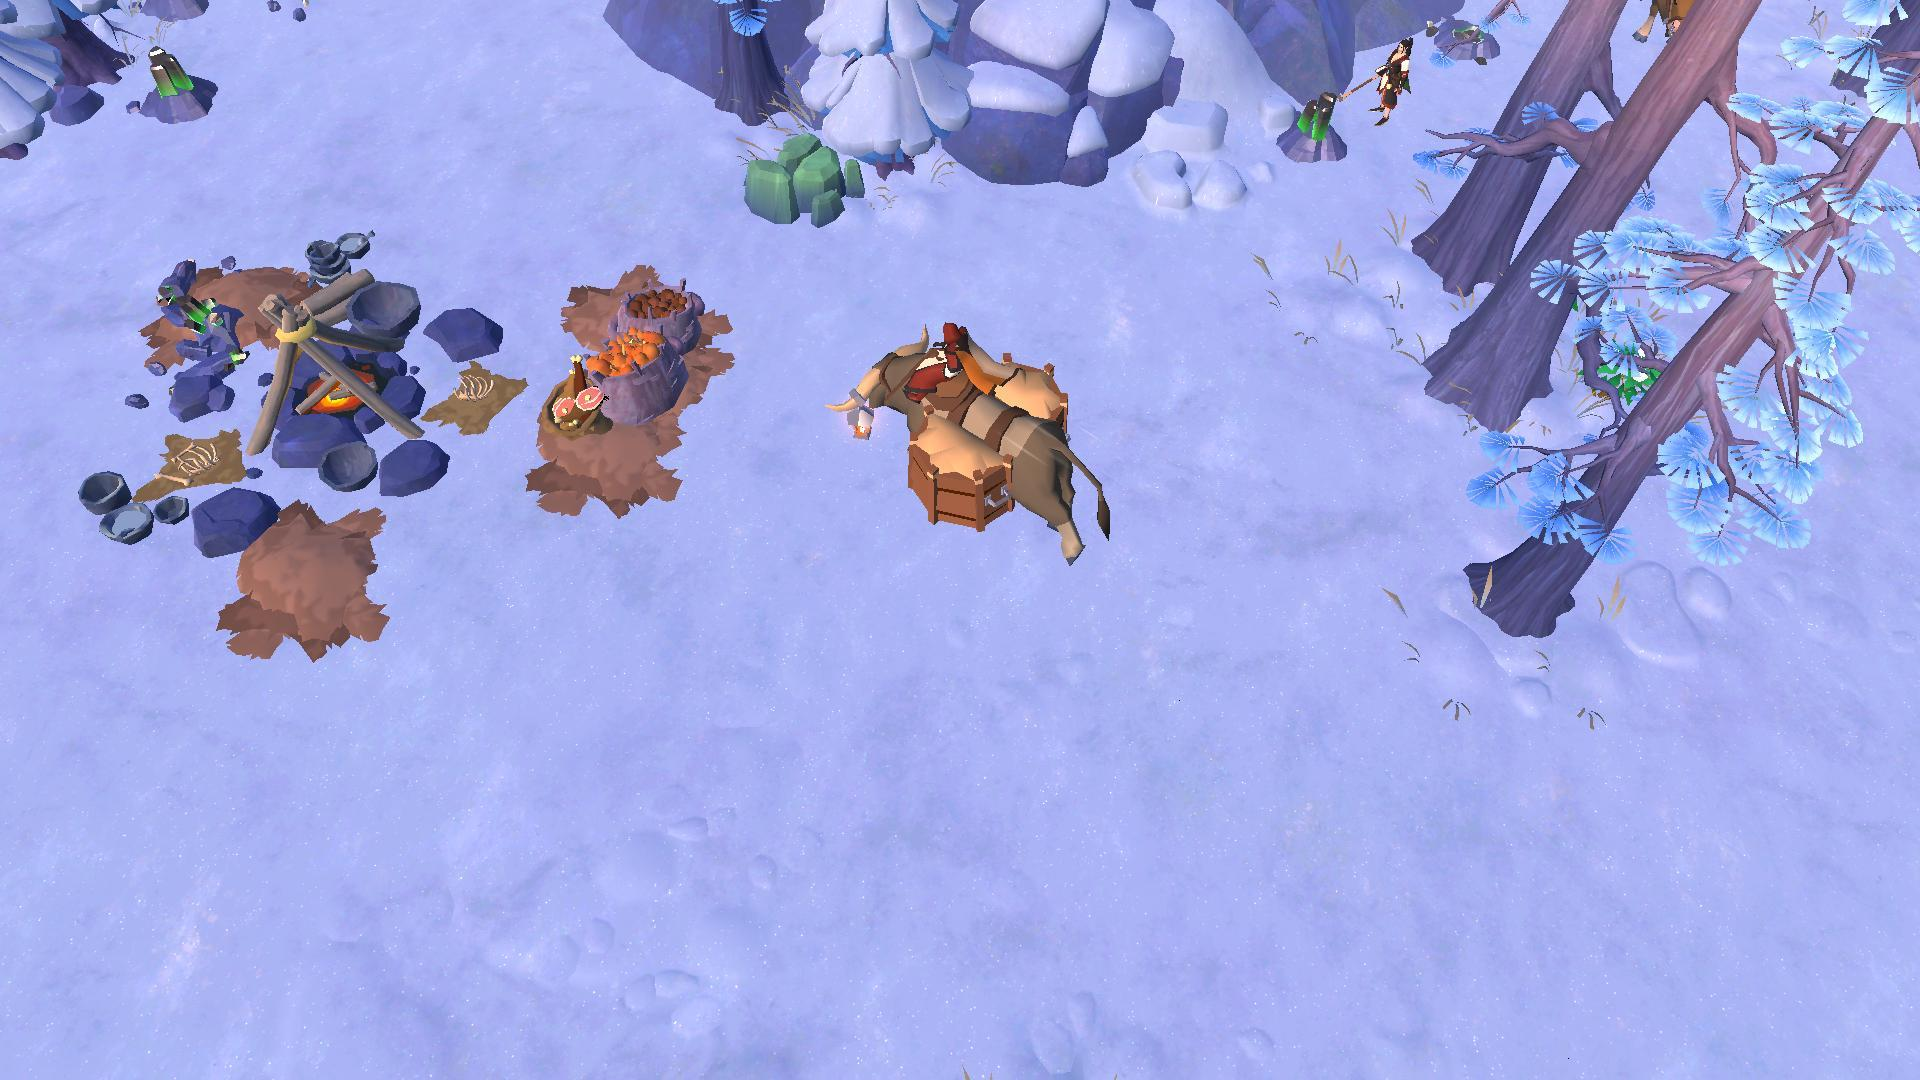fiber_t3: (1590, 342, 1671, 414)
ore_t3: (138, 41, 195, 100), (1296, 86, 1340, 137)
rock_t3: (729, 131, 873, 239)
